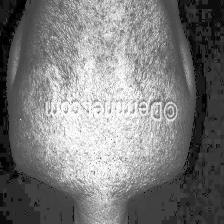Unclassified: (33, 0, 172, 92), (24, 116, 166, 174)
